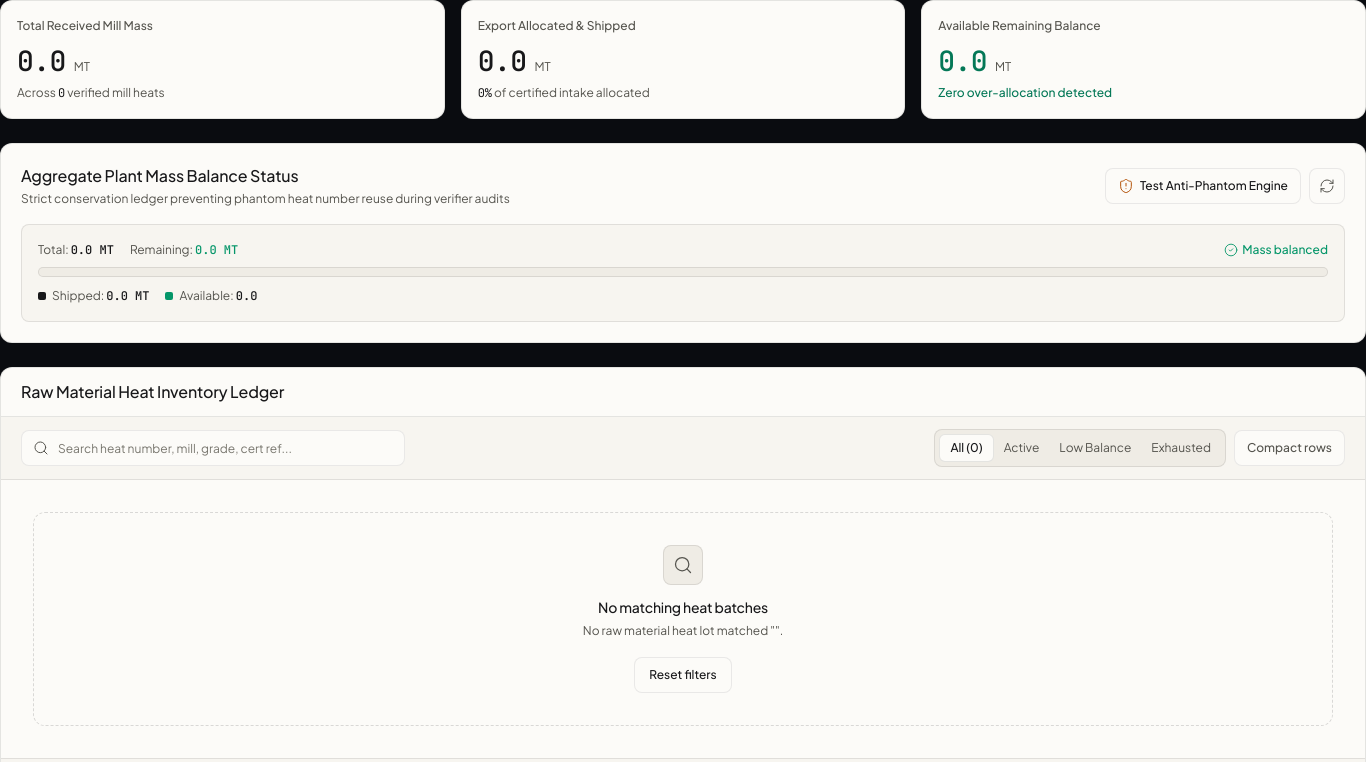
Test: Prompt D6: Responsive Data Views & Ledgers › renders HeatInventoryView with aggregate mass-balance and Anti-Phantom Sandbox
Expected: the heading "Raw Material Heat Inventory Ledger" is shown, [21,381,284,402]
Expected: the heading "Aggregate Plant Mass Balance Status" is shown, [21,165,298,186]
Click the button "Test Anti-Phantom Engine" at {"x": 1203, "y": 186}, box [1105,168,1301,204]
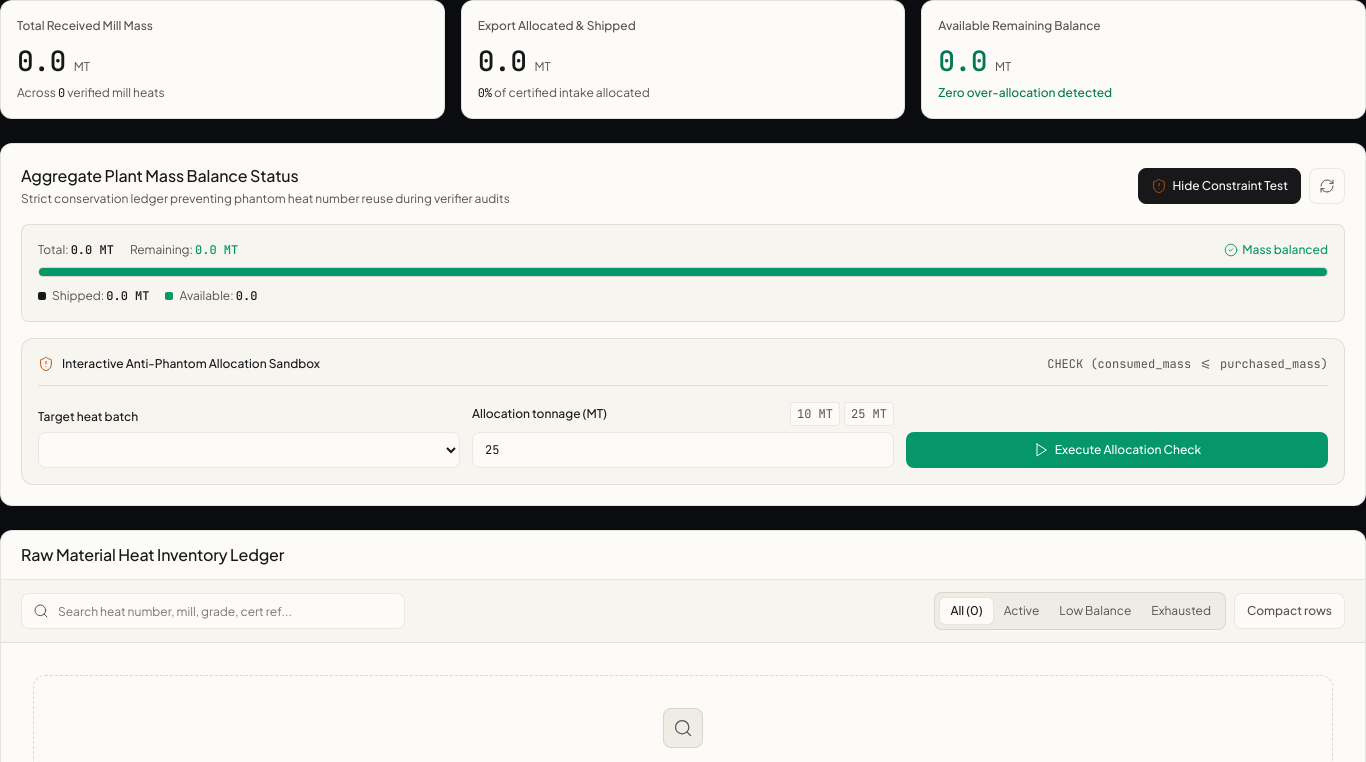
Expected: the text "Interactive Anti-Phantom Allocation Sandbox" is shown, [62,355,320,373]
Expected: the text "Execute Allocation Check" is shown, [1055,441,1201,459]
